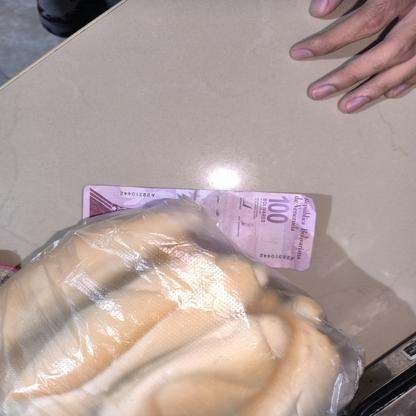one_hundred-front-vef: (82, 185, 316, 271)
